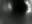person: (24, 1, 32, 16), (8, 3, 13, 14)
